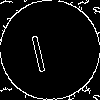I: (25, 25, 49, 73)
